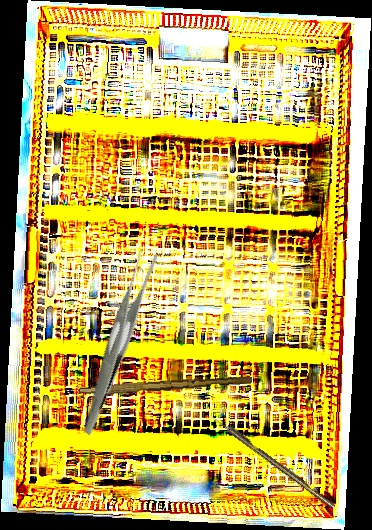Dressing Forceps: (32, 244, 201, 436)
Hook Surgical: (208, 411, 337, 511)
Scalpel Handle: (78, 372, 253, 400)
